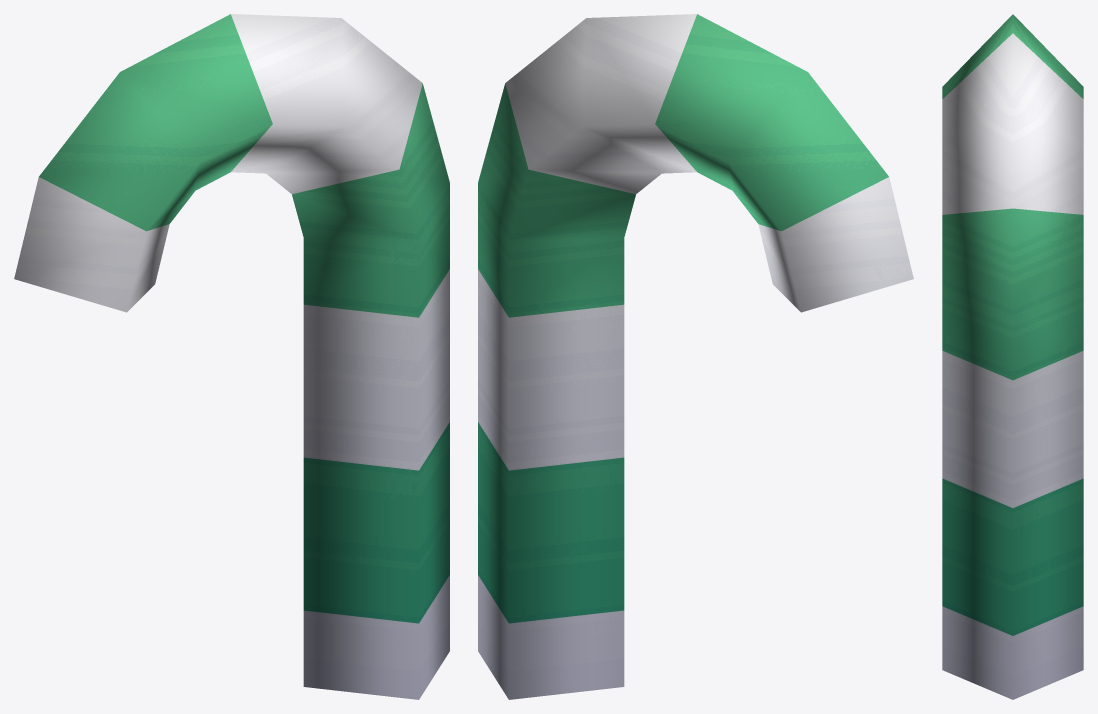
File: candy-cane-green.glb
The picture shows the model from 3 angles, left to right: view 1: azimuth 30°, elevation 25°; view 2: azimuth 150°, elevation 25°; view 3: azimuth 270°, elevation 25°; orthographic projection. The views are drawn at different scales.
Visible parts, largest first — view 1: candy-cane-green; view 2: candy-cane-green; view 3: candy-cane-green.
Part boxes in pixels (x1,y1,x2,y2): candy-cane-green: (14,14,449,699); candy-cane-green: (478,14,913,699); candy-cane-green: (942,14,1083,699).
Size of the model in its own units: 0.2983 by 0.4518 by 0.1.
Materials: 1 (1 with a texture image).
